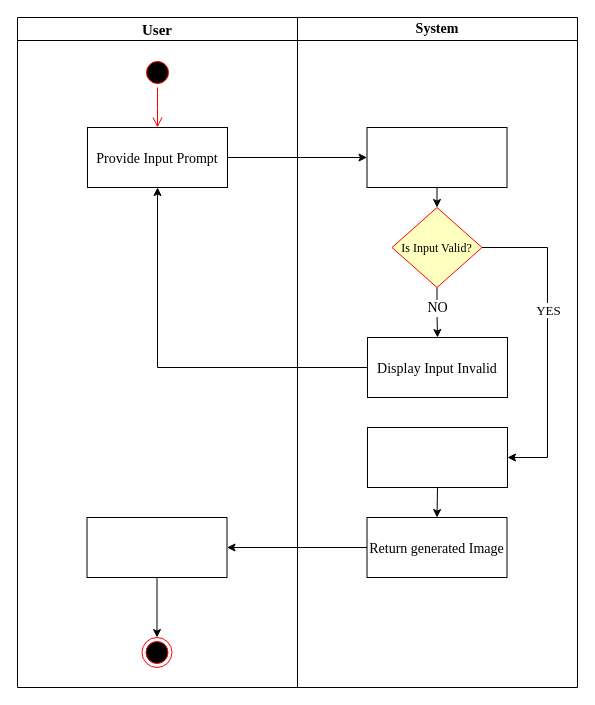
The diagram is 595 pixels wide and 705 high, and some of its shapes have lost their labels. The centre of each missing label's shape, as x and y in pixels:
Generate Image using Model: [437,457]
Validate Input Prompt: [436,157]
Visualize Image: [156,547]
